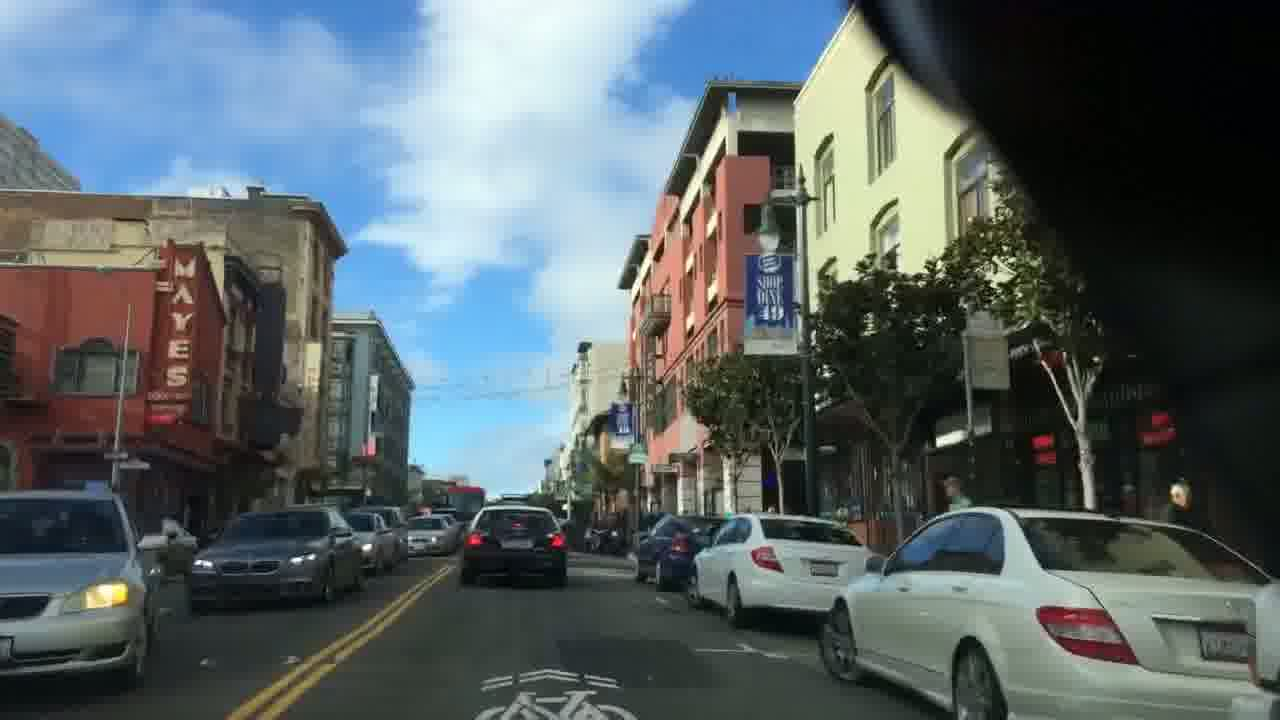car: (818, 503, 1280, 720), (0, 486, 169, 694), (688, 511, 873, 629), (187, 507, 361, 614), (461, 503, 567, 583), (633, 512, 718, 592), (403, 514, 457, 556)
